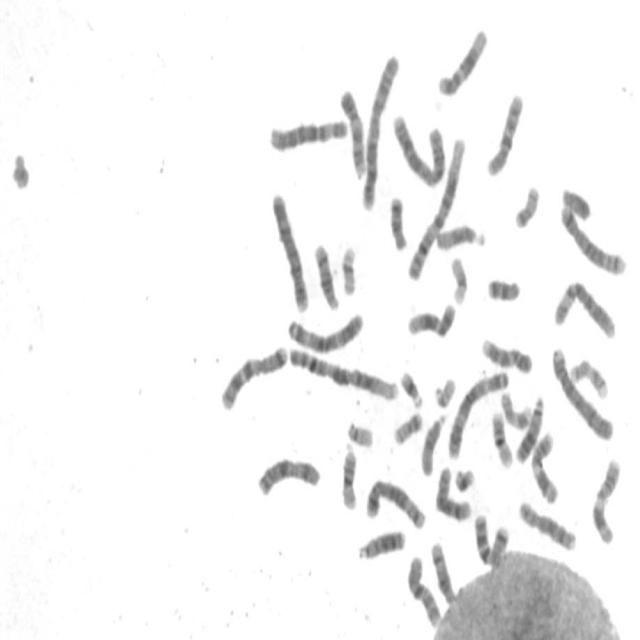A1: (404, 130, 468, 282), (286, 339, 402, 403)
A2: (358, 46, 402, 212), (389, 106, 448, 190)
A3: (445, 364, 512, 461), (284, 304, 366, 355)
B4: (549, 340, 616, 443), (268, 185, 312, 314)
B5: (557, 198, 629, 276), (362, 472, 428, 530)
C10: (483, 85, 526, 179), (404, 549, 444, 629)
C11: (589, 451, 624, 546), (528, 426, 562, 505)
C12: (435, 20, 491, 98), (404, 296, 459, 340)
C6: (551, 273, 619, 341), (266, 111, 351, 154)
C7: (216, 337, 290, 412), (471, 507, 512, 569)
C8: (516, 494, 580, 553), (433, 460, 474, 523)
C9: (337, 83, 369, 178), (478, 330, 536, 376)
D13: (513, 389, 547, 465), (355, 522, 407, 562)
D14: (311, 235, 342, 312), (428, 536, 458, 606)
D15: (418, 406, 449, 478), (432, 216, 489, 253)
E16: (489, 404, 516, 470), (338, 438, 360, 512)
E17: (568, 352, 610, 401), (498, 384, 534, 430)
E18: (386, 189, 410, 252), (484, 270, 523, 304)
F19: (447, 248, 470, 306), (338, 239, 360, 297)
F20: (511, 178, 542, 230), (390, 404, 426, 446)
G21: (397, 363, 425, 410), (451, 460, 478, 494)
G22: (344, 414, 376, 450), (431, 371, 458, 409)
X: (254, 450, 323, 499)
Y: (558, 180, 594, 222)
